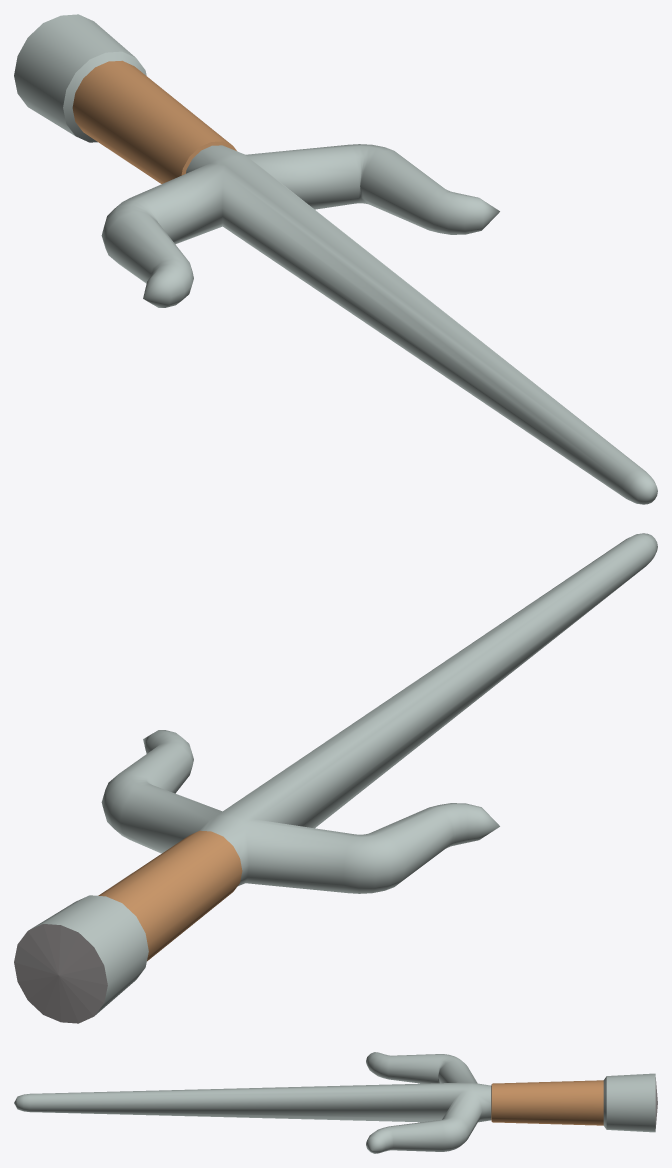
The model's file is Sai.fbx.
3 renders of one model, top to bottom at view 1: azimuth 30°, elevation 25°; view 2: azimuth 150°, elevation 25°; view 3: azimuth 270°, elevation 25°, orthographic. The views are drawn at different scales.
Parts seen in each view (by area): view 1: Sai; view 2: Sai; view 3: Sai.
Part boxes in pixels (x1,y1,x2,y2): Sai: (14,14,657,504); Sai: (14,533,657,1023); Sai: (14,1052,657,1153).
Size of the model in its own units: 0.3362 by 0.0874 by 0.9647.
